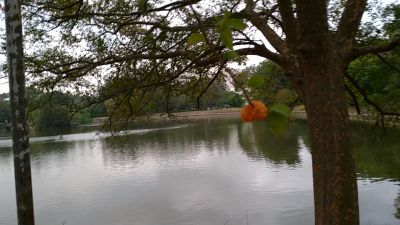eggs: (240, 100, 268, 124)
